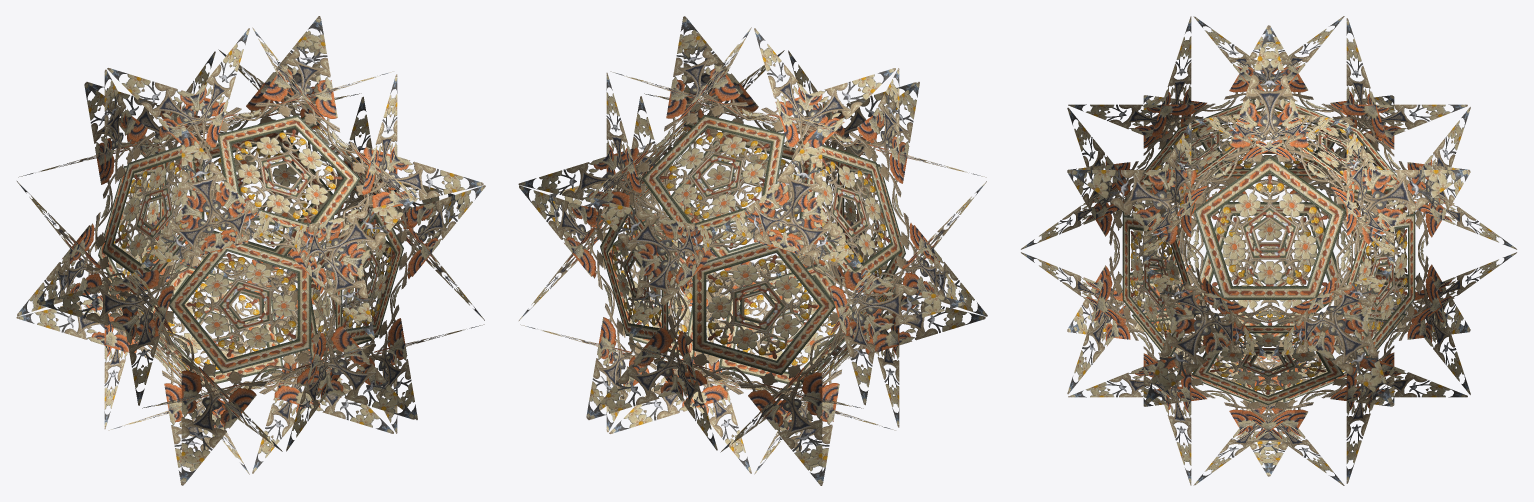
Rendered from 5GreatIcosidodecahedron.gltf.
3 views of the same model, side by side, from view 1: azimuth 30°, elevation 25°; view 2: azimuth 150°, elevation 25°; view 3: azimuth 270°, elevation 25° (orthographic).
Parts seen in each view (by area): view 1: GreatIcosidodecahedron8; view 2: GreatIcosidodecahedron8; view 3: GreatIcosidodecahedron8.
Part boxes in pixels (x1,y1,x2,y2): GreatIcosidodecahedron8: (16, 16, 485, 485); GreatIcosidodecahedron8: (518, 16, 987, 485); GreatIcosidodecahedron8: (1021, 16, 1516, 485).
Bounding box in the file's own units: 1.24 × 1.24 × 1.24.
Materials: 1 (1 with a texture image).
